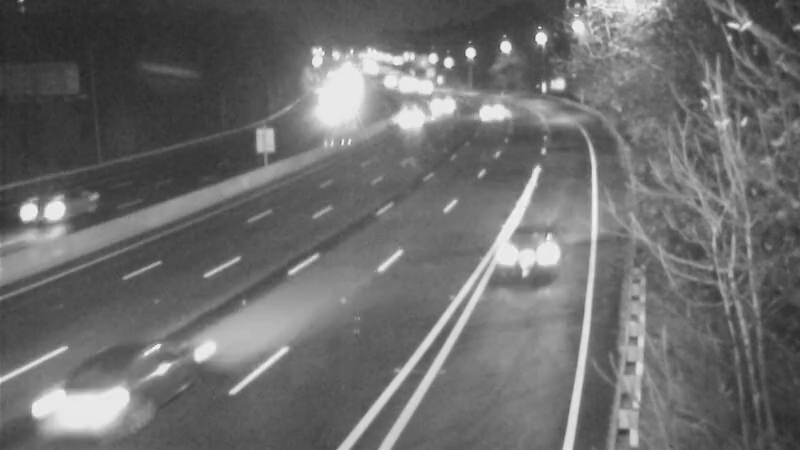vehicle: (25, 345, 135, 450), (507, 201, 587, 281), (4, 171, 84, 251), (416, 79, 466, 129), (470, 82, 520, 132), (379, 93, 429, 143)
